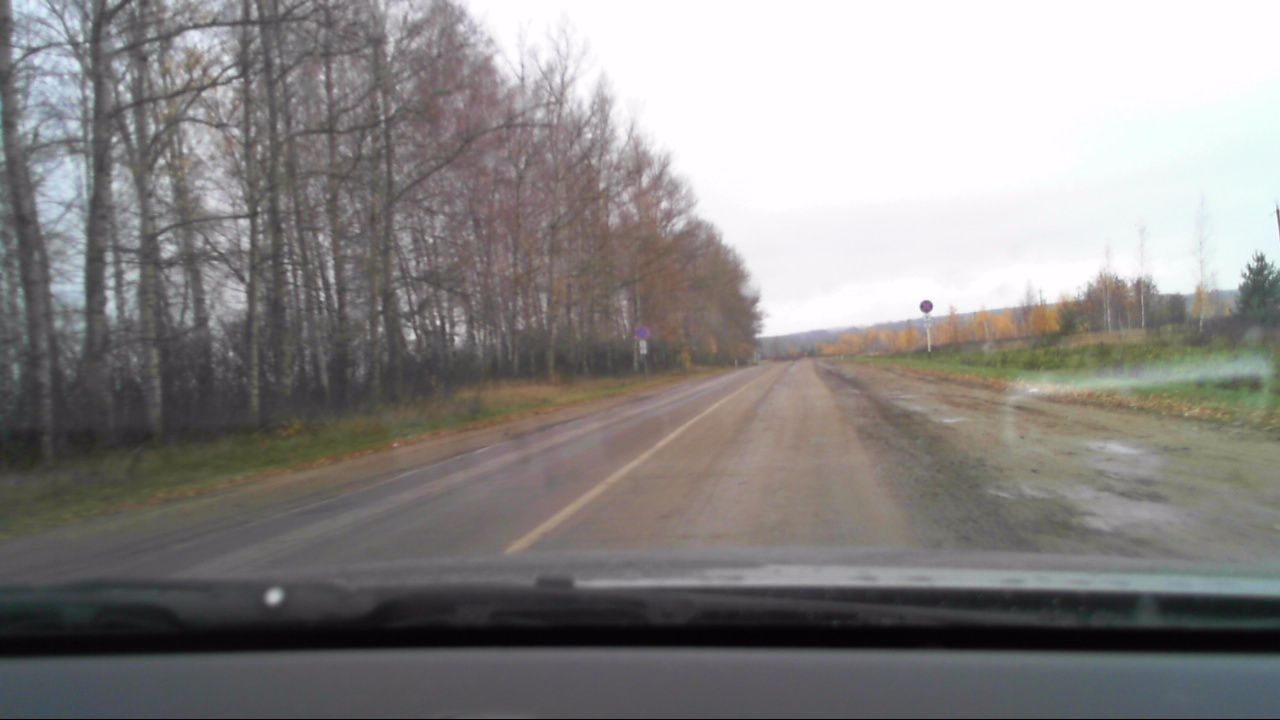No Parking: (919, 298, 935, 314)
